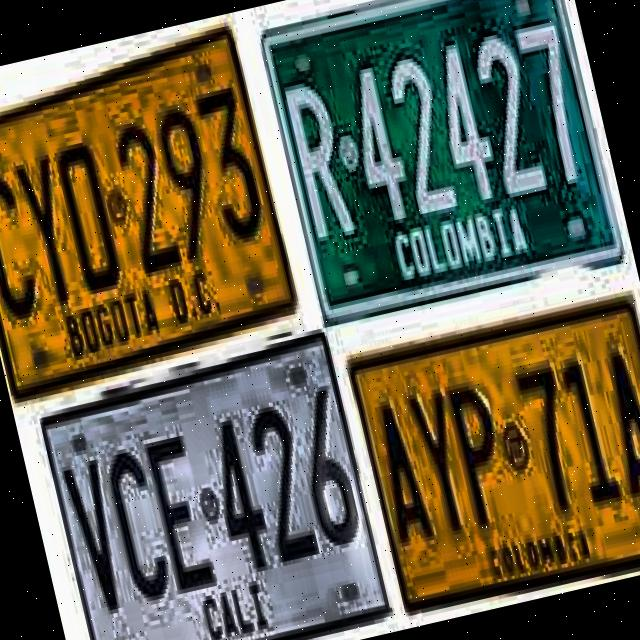1: (554, 346, 628, 513)
2: (469, 26, 554, 203), (242, 401, 326, 575), (382, 46, 466, 220), (106, 116, 187, 280)
3: (187, 80, 272, 252)
4: (427, 36, 508, 210), (339, 58, 419, 226), (201, 410, 279, 582)
6: (287, 384, 368, 552)
7: (505, 351, 591, 524), (514, 18, 596, 188)
9: (148, 102, 225, 262)
A: (365, 392, 439, 554), (589, 338, 640, 504)
C: (101, 443, 179, 610), (0, 165, 48, 325)
E: (138, 428, 221, 596)
O: (52, 139, 128, 296)
P: (442, 371, 520, 538)
R: (279, 73, 366, 257)
V: (56, 454, 136, 618)
Y: (10, 148, 88, 312), (402, 383, 476, 544)
